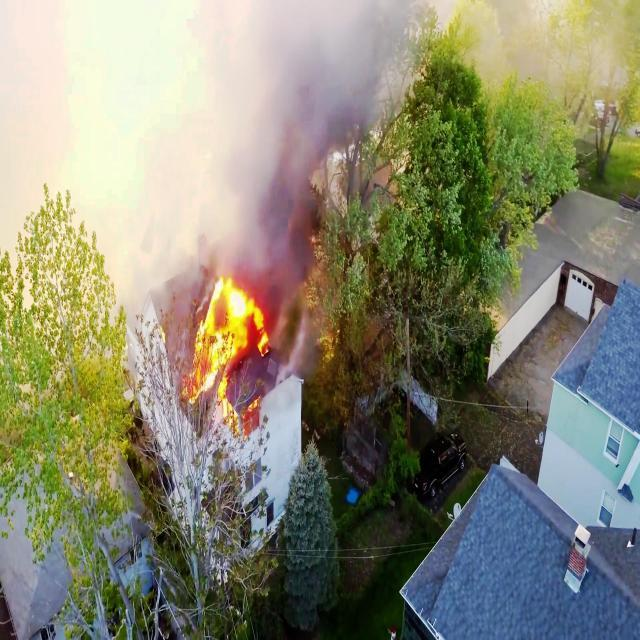Fire: (188, 280, 272, 372)
Smoke: (206, 0, 302, 274)
